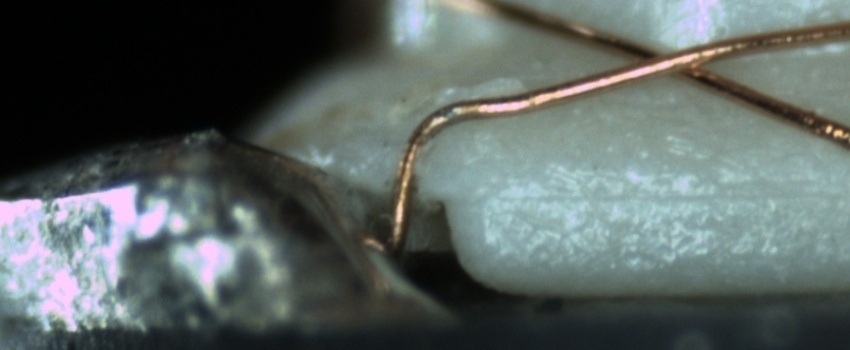CL: (605, 35, 731, 85)
DL: (476, 160, 849, 233)
